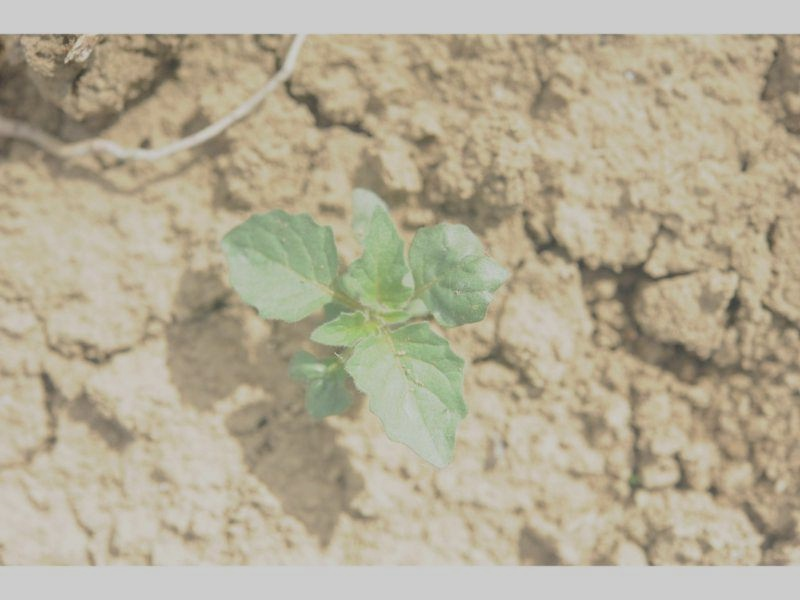nightshade: (219, 187, 504, 472)
